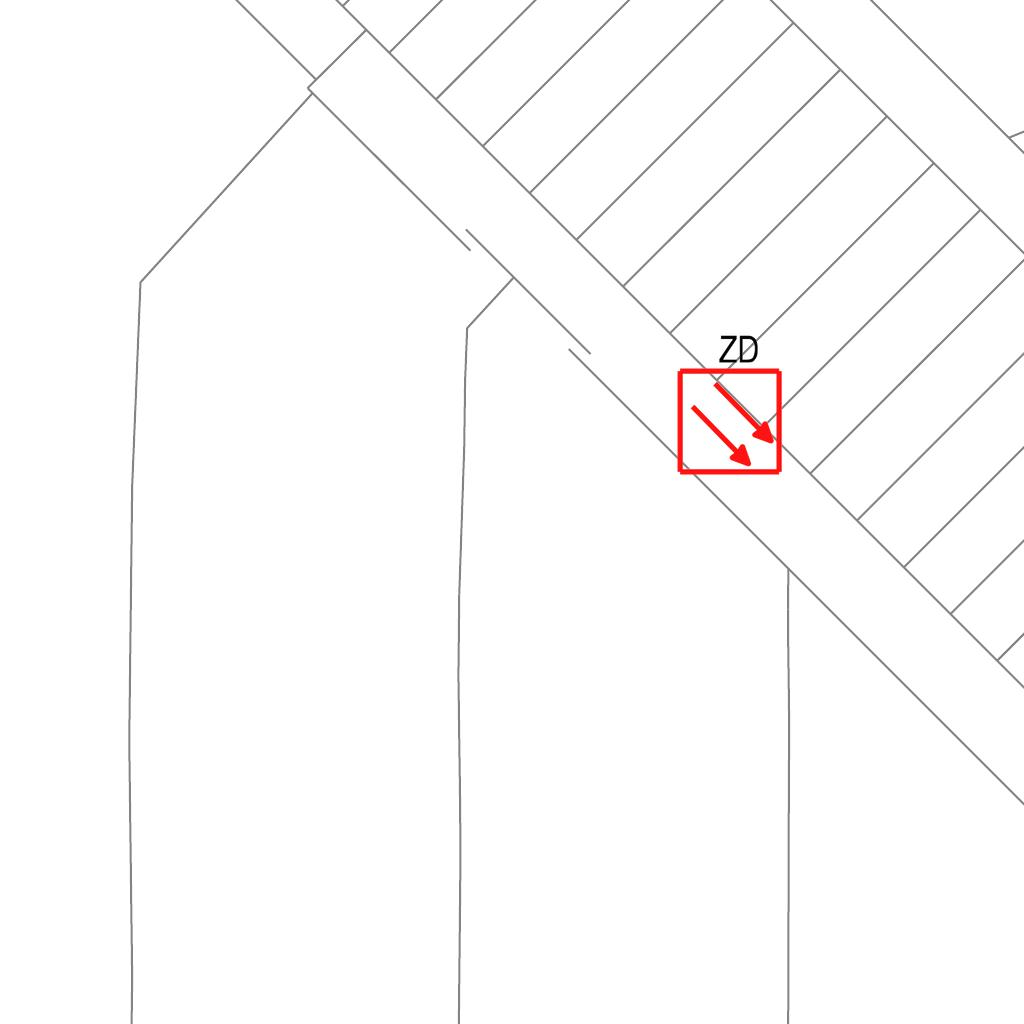ZD_Melder_in_Zwischendecke_mit_Revisionsoeffnung_mind_40_x_40_cm: (671, 328, 785, 477)
